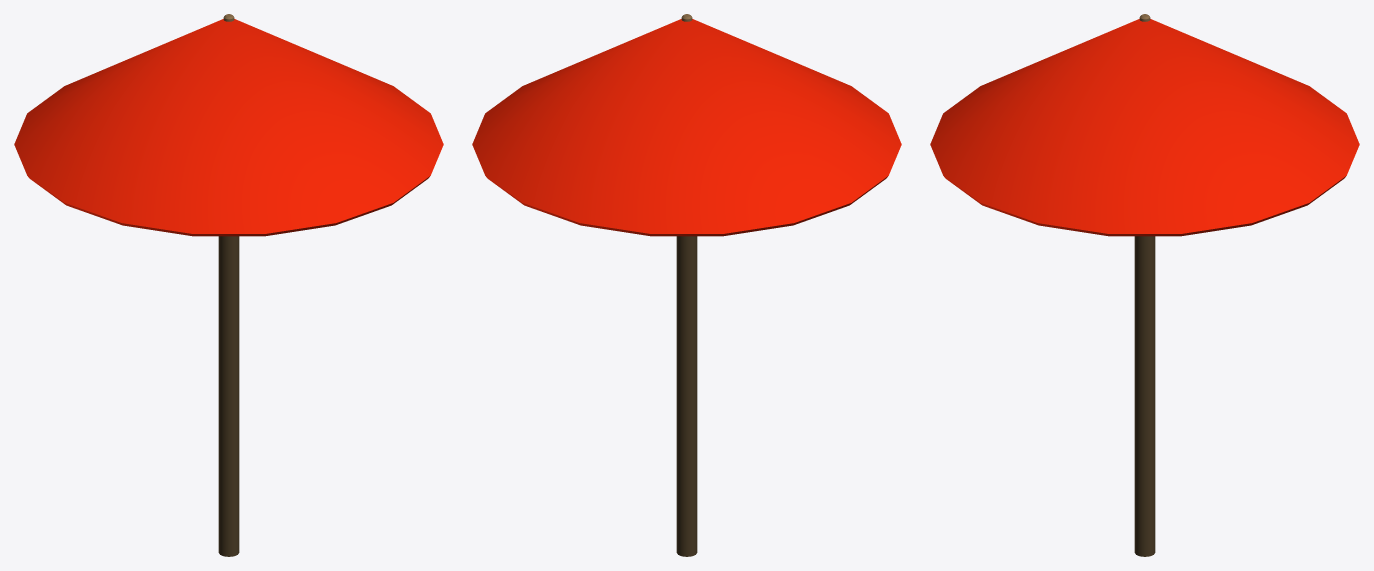
The model's file is Umbrella_1.fbx.
3 views of the same model, side by side, from view 1: azimuth 30°, elevation 25°; view 2: azimuth 150°, elevation 25°; view 3: azimuth 270°, elevation 25° (orthographic).
Visible parts, largest first — view 1: Umbrella_1; view 2: Umbrella_1; view 3: Umbrella_1.
Part boxes in pixels (x1,y1,x2,y2): Umbrella_1: (14,14,443,556); Umbrella_1: (472,14,901,556); Umbrella_1: (930,14,1359,556).
Size of the model in its own units: 101 by 142 by 103.
